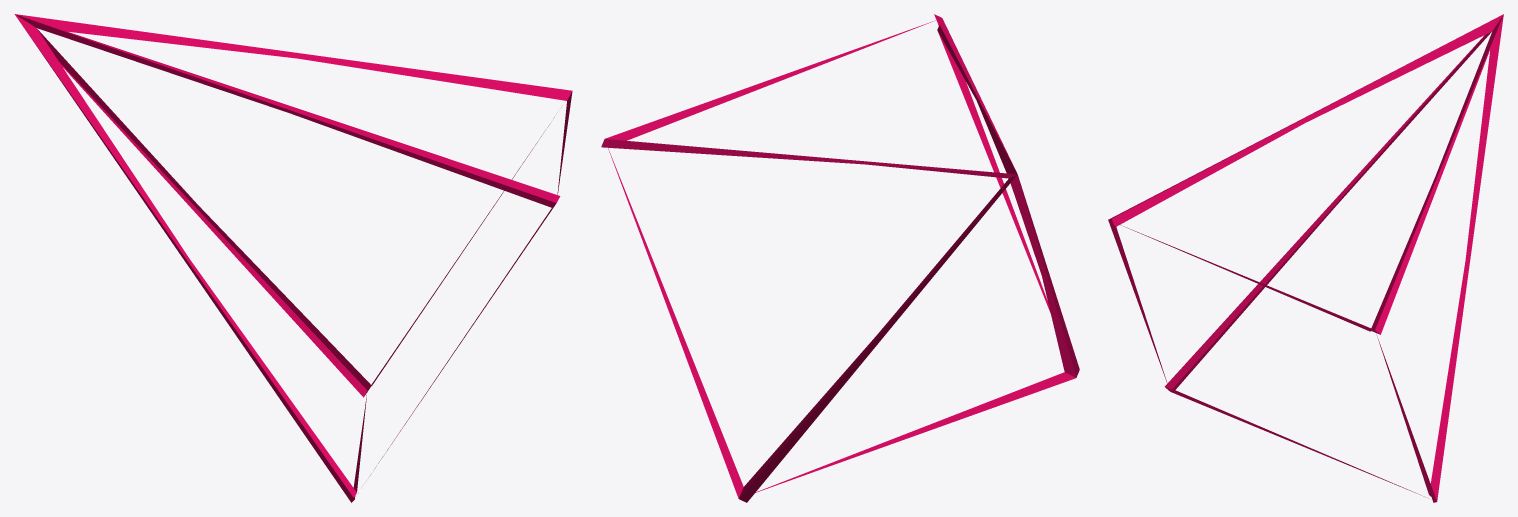
Rendered from synthetic-pre-stream3r-scene.glb.
The picture shows the model from 3 angles, left to right: view 1: azimuth 30°, elevation 25°; view 2: azimuth 150°, elevation 25°; view 3: azimuth 270°, elevation 25°; orthographic projection. The views are drawn at different scales.
Parts seen in each view (by area): view 1: world; view 2: world; view 3: world.
Boxes of the visible parts, x1=… form: world: x1=14, y1=14, x2=572, y2=502; world: x1=601, y1=14, x2=1079, y2=502; world: x1=1108, y1=14, x2=1503, y2=502.
Bounding box in the file's own units: 0.00152 × 0.00129 × 0.00128.
